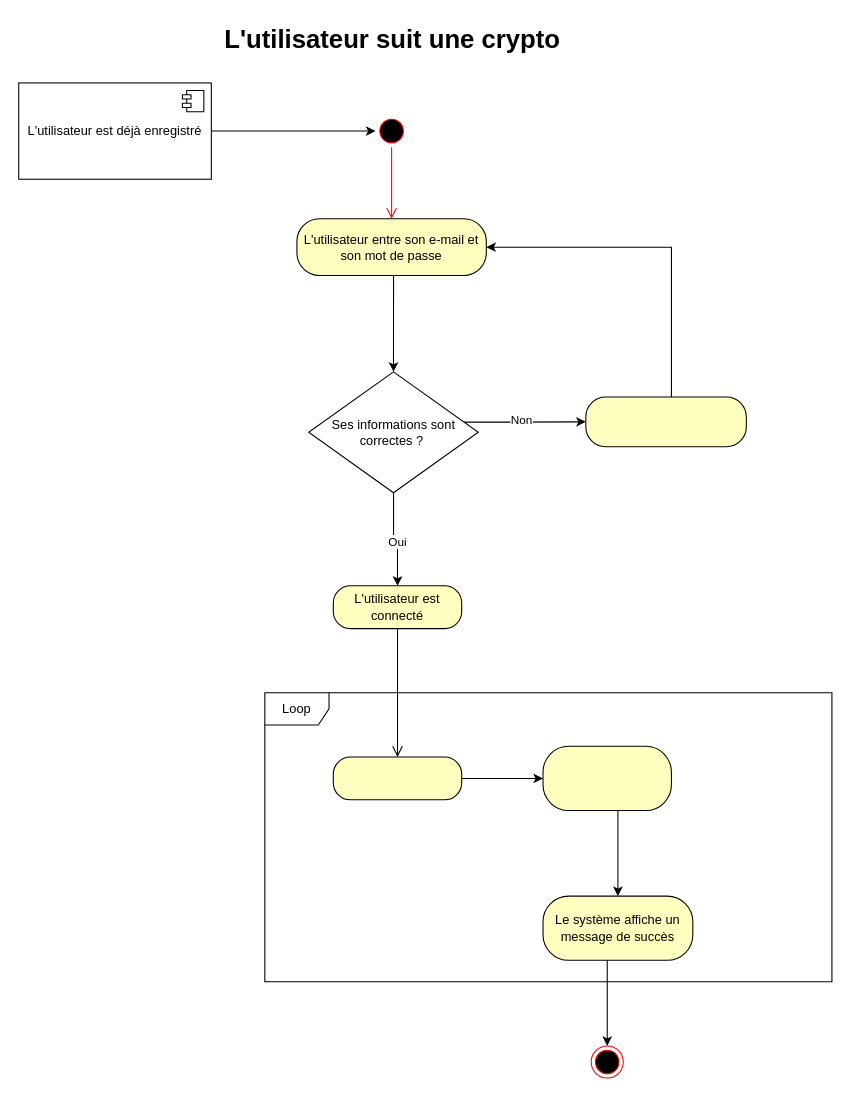
Some shapes in this 851 by 1097 pixel diagram are drawn without their labels. The centre of each missing label's shape, as x and y in pixels:
Email ou Mdp incorrecte: point 665,421
L'utilisateur clique sur le bouton favori: point 397,778
Le coin favori est enregistré en BDD: point 606,778
